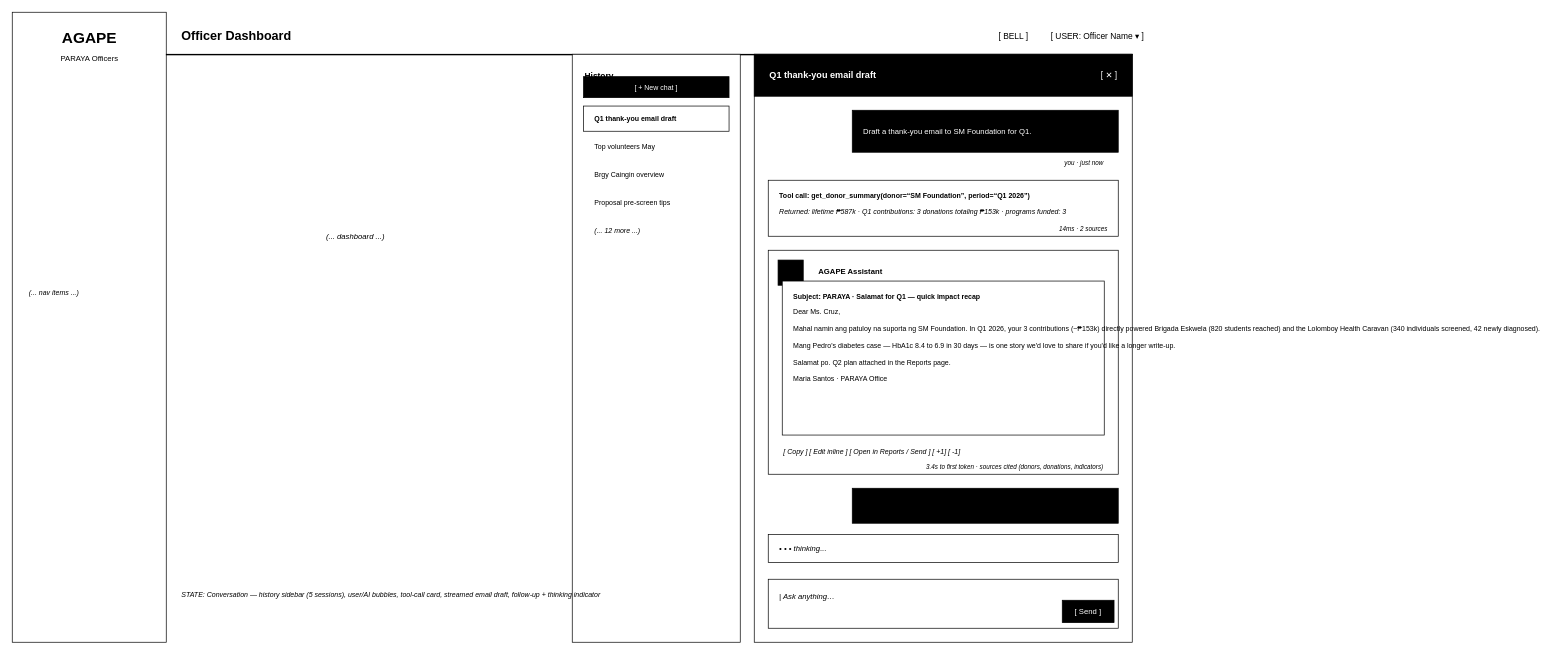
Image size: 1553x655. Some labels were removed from this diagram. The shapes that lost their labels are listed below. From the top down, each one's centre as x and y in pixels, then its label:
At (790,272): "AI".
At (985,505): "Can you make it warmer? Less corporate.".
